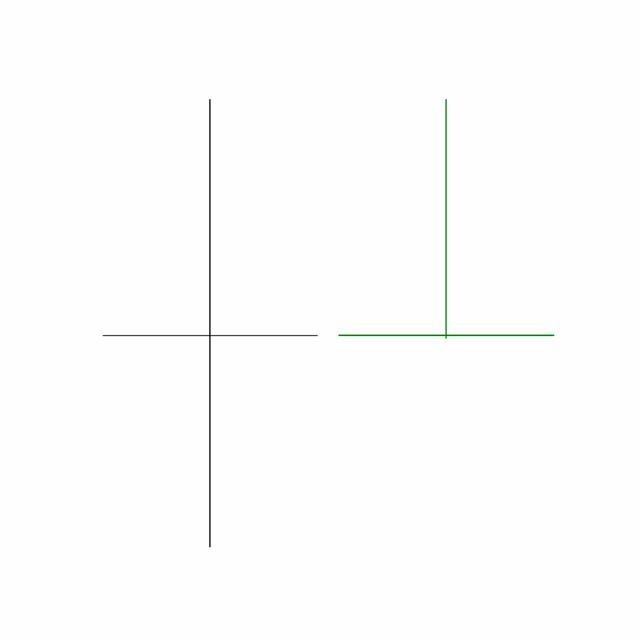Gravestone Doji: (327, 96, 565, 342)
